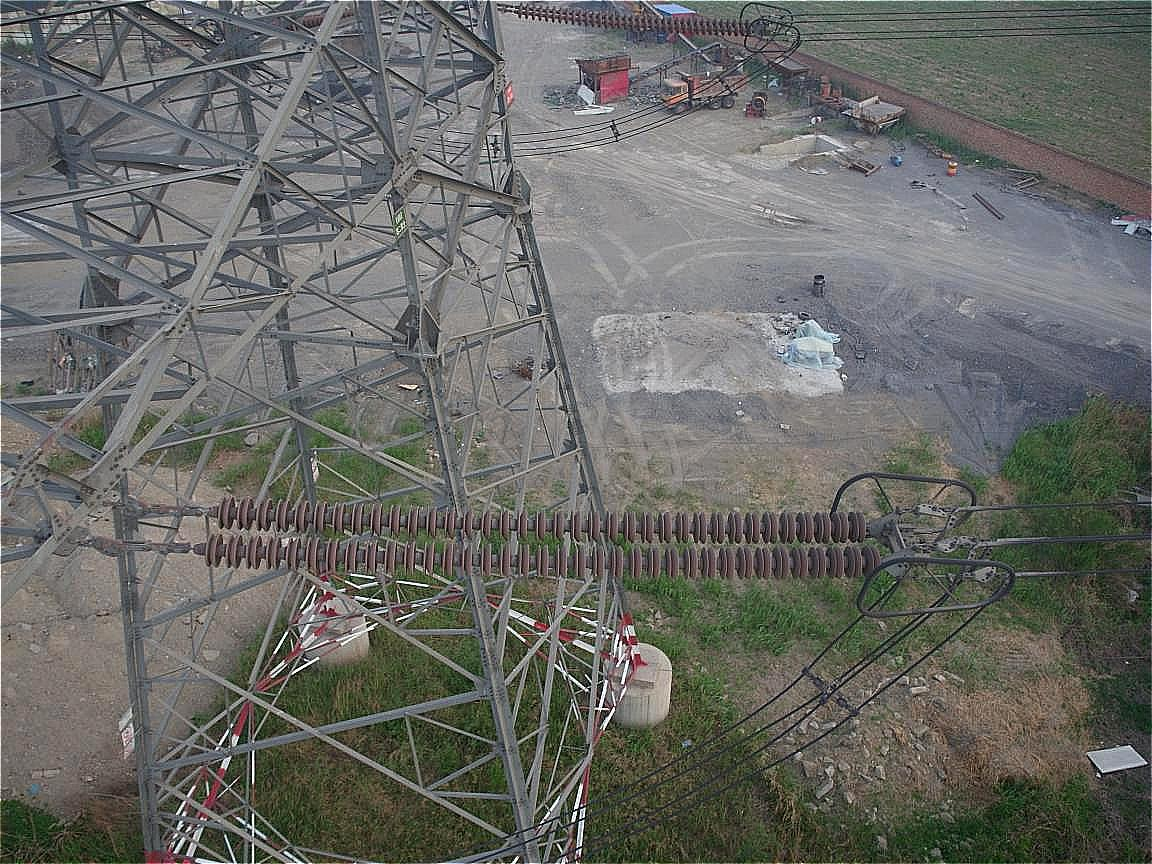insultor2: (167, 481, 904, 595)
